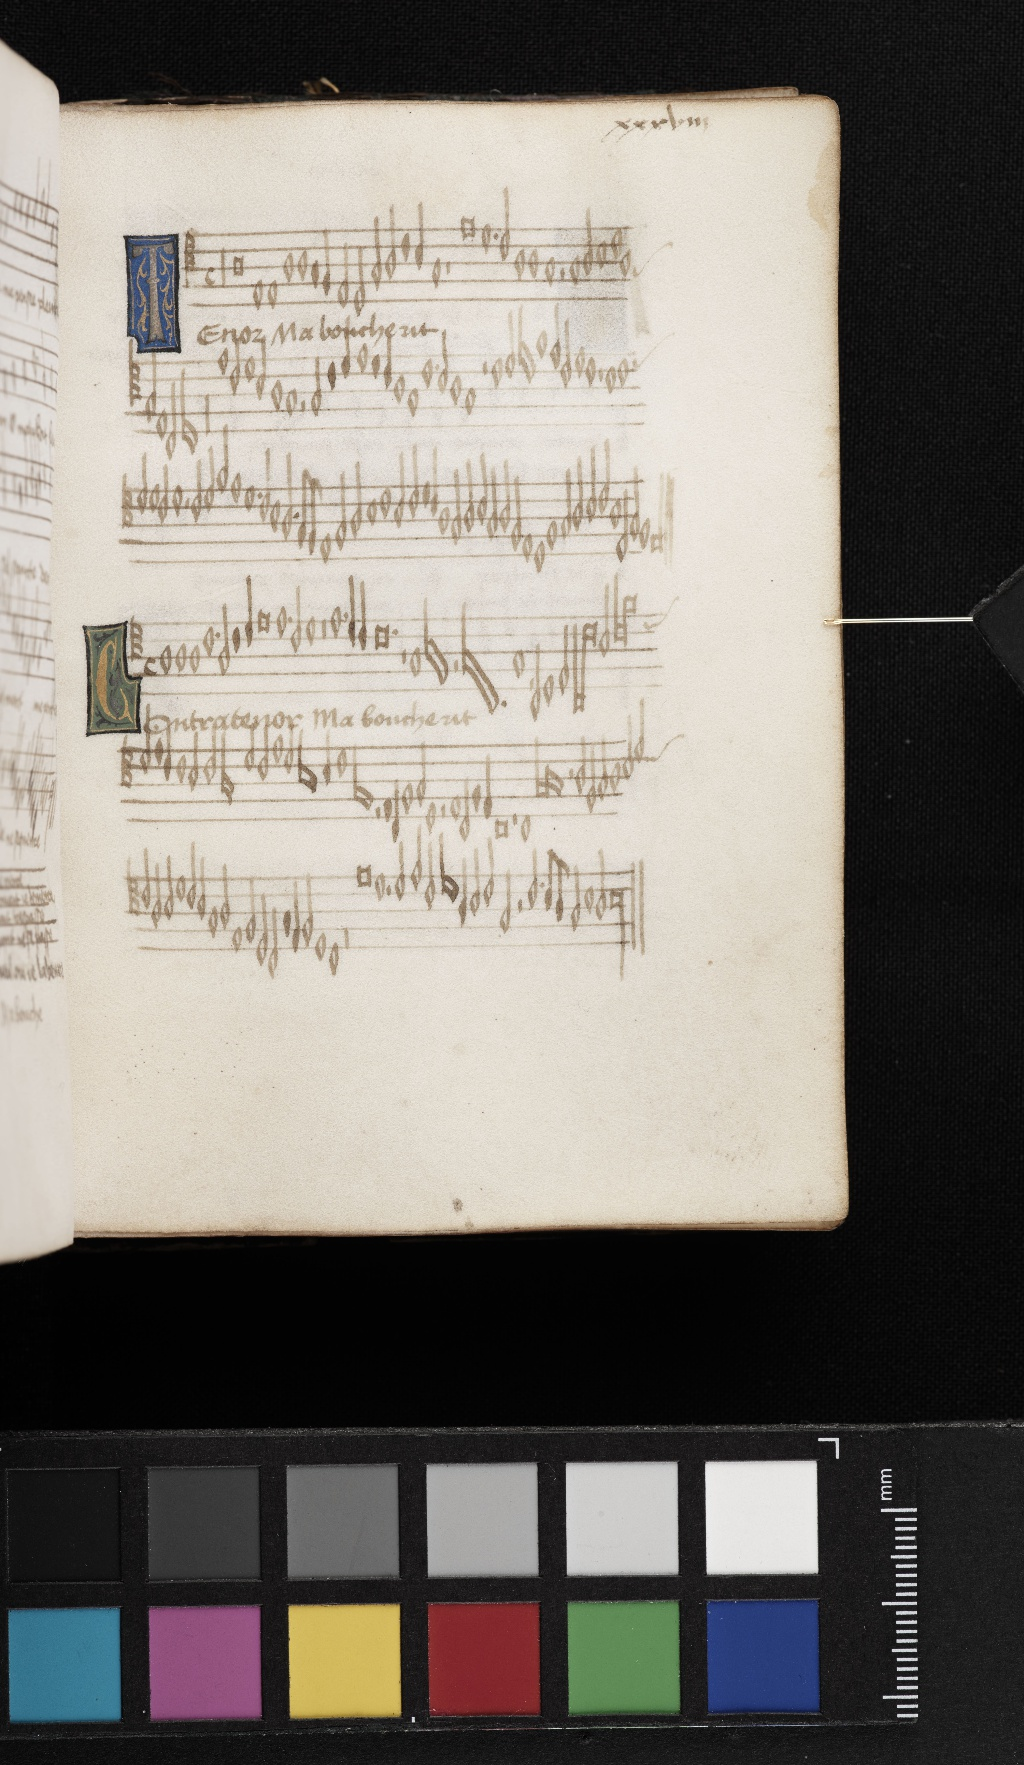Imin: (139, 651, 161, 685)
breve rest: (316, 612, 329, 692)
breve_3: (254, 605, 272, 637)
breve_5: (371, 616, 391, 658)
c clef_5: (127, 614, 146, 670)
colored semibreve_5: (227, 620, 245, 661)
custos_4: (638, 606, 668, 637)
l1semibreve_12: (567, 620, 585, 716)
l1semibreve_5: (610, 577, 627, 644)
l2semibreve_2: (623, 590, 639, 646)
l2semibreve_5: (581, 622, 596, 663)
minim rest: (449, 601, 461, 696), (527, 613, 538, 692)
minim_10: (556, 620, 571, 695)
minim_12: (529, 637, 540, 722)
minim_5: (288, 588, 305, 659)
minim_6: (596, 584, 611, 657)
minim_8: (219, 606, 232, 677)
o1semibreve_7: (419, 597, 434, 691)
o1semibreve_8: (462, 598, 480, 707)
o2semibreve_12: (480, 600, 499, 716)
o2semibreve_9: (434, 597, 449, 691)
point: (384, 618, 404, 644), (336, 605, 351, 627), (211, 627, 224, 645), (283, 609, 295, 627), (499, 694, 510, 711)
semibreve rest: (396, 605, 408, 687)
semibreve_11: (545, 670, 557, 705)
semibreve_3: (328, 598, 344, 644), (274, 598, 289, 644)
semibreve_4: (302, 609, 319, 651)
semibreve_5: (201, 619, 216, 661)
semibreve_7: (156, 637, 173, 680), (187, 637, 204, 678), (173, 637, 189, 677)
semibreve_8: (406, 642, 423, 683), (508, 642, 525, 679)
semiminim_4: (344, 581, 358, 648), (243, 581, 256, 648)
semiminim_5: (356, 577, 371, 659)
